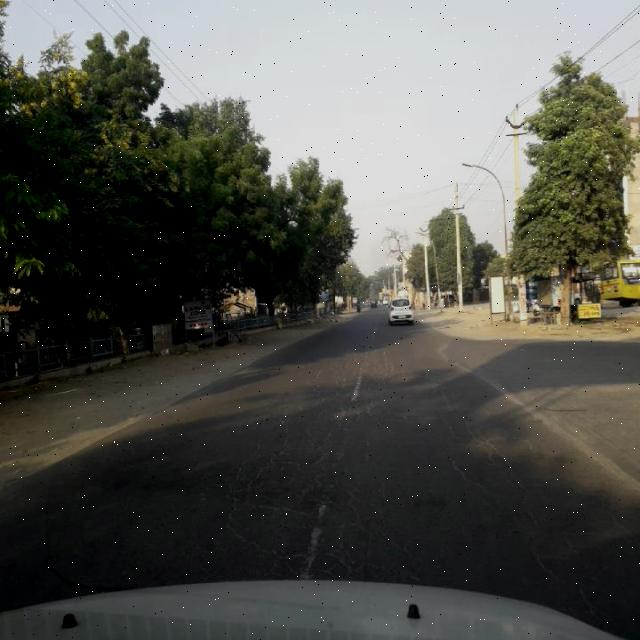D20: (180, 385, 396, 569), (435, 400, 573, 574)
D44: (300, 479, 336, 573)
